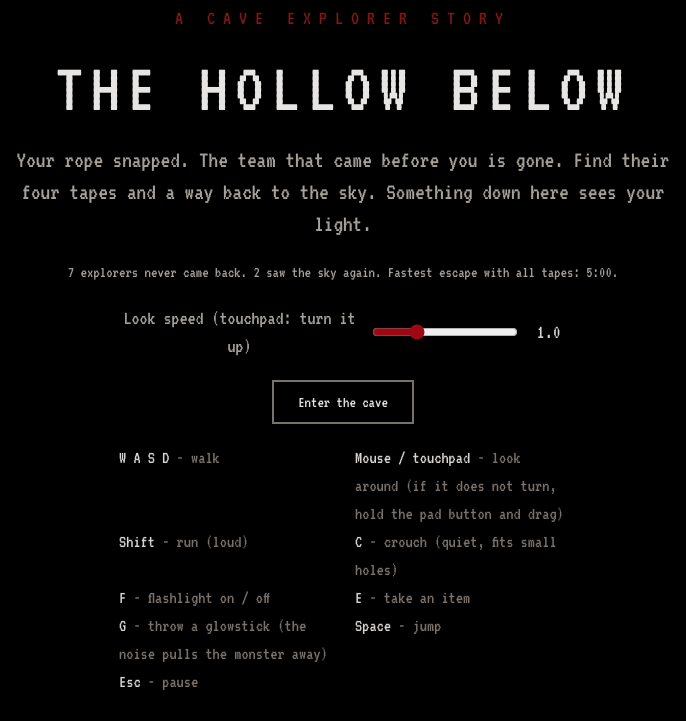
Test: GamePage › shows a different ending for falling and for escaping
Later steps or results of the test are not shown.
Click the button "Enter the cave": (343, 402) [272, 380, 414, 424]
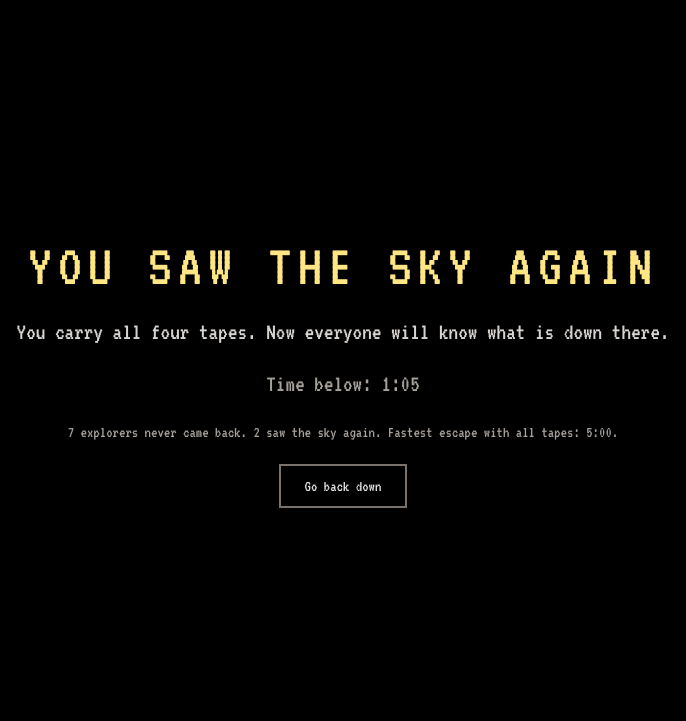
Now the heading "YOU SAW THE SKY AGAIN" is shown, box [17, 236, 669, 296]
Now the text "You carry all four tapes" is shown, box [17, 320, 669, 344]
